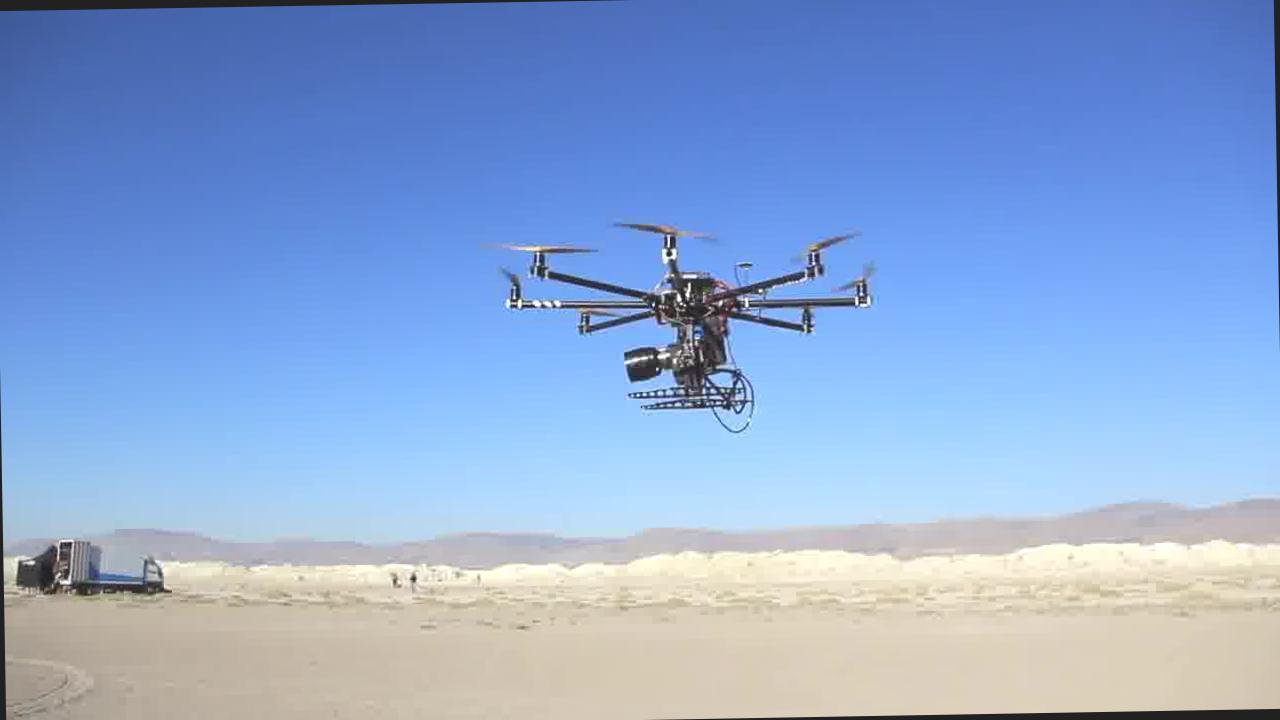drone: (479, 222, 881, 407)
